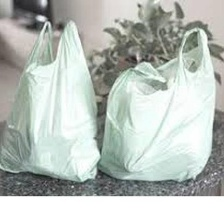plastic_bag: (96, 23, 217, 183), (0, 15, 102, 185)
